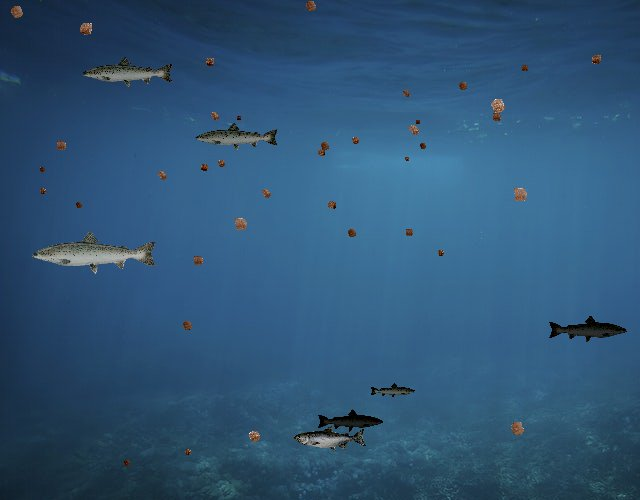Fish: (30, 229, 159, 275), (81, 55, 175, 89), (194, 121, 280, 152), (547, 315, 628, 344), (294, 426, 367, 452), (317, 408, 385, 433), (370, 382, 417, 399)
Pellet: (242, 424, 267, 449), (453, 77, 472, 96), (347, 132, 364, 149), (180, 445, 195, 460), (433, 246, 448, 260), (120, 456, 134, 470), (36, 184, 50, 198)
